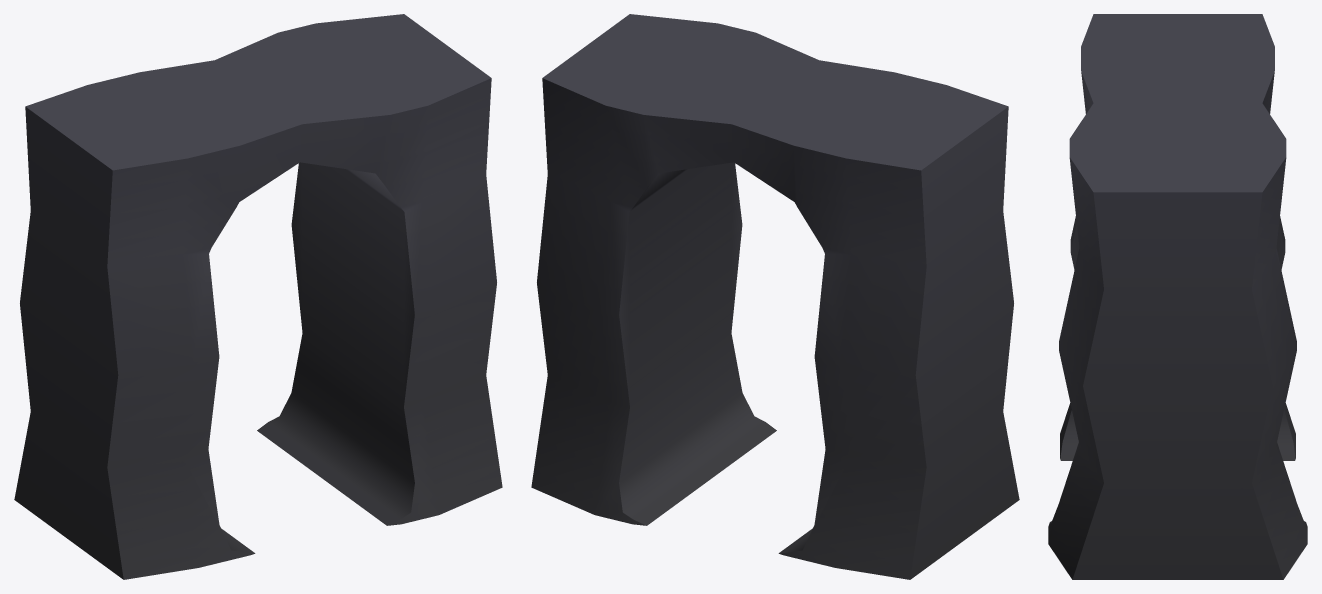
Rendered from gate-rock.fbx.
3 renders of one model, left to right at view 1: azimuth 30°, elevation 25°; view 2: azimuth 150°, elevation 25°; view 3: azimuth 270°, elevation 25°, orthographic. The views are drawn at different scales.
Parts seen in each view (by area): view 1: gate-rock; view 2: gate-rock; view 3: gate-rock.
Boxes of the visible parts, bbox=[...] form: gate-rock: bbox=[14, 14, 502, 579]; gate-rock: bbox=[531, 14, 1019, 579]; gate-rock: bbox=[1048, 14, 1307, 579].
Size of the model in its own units: 400 by 405 by 245.
